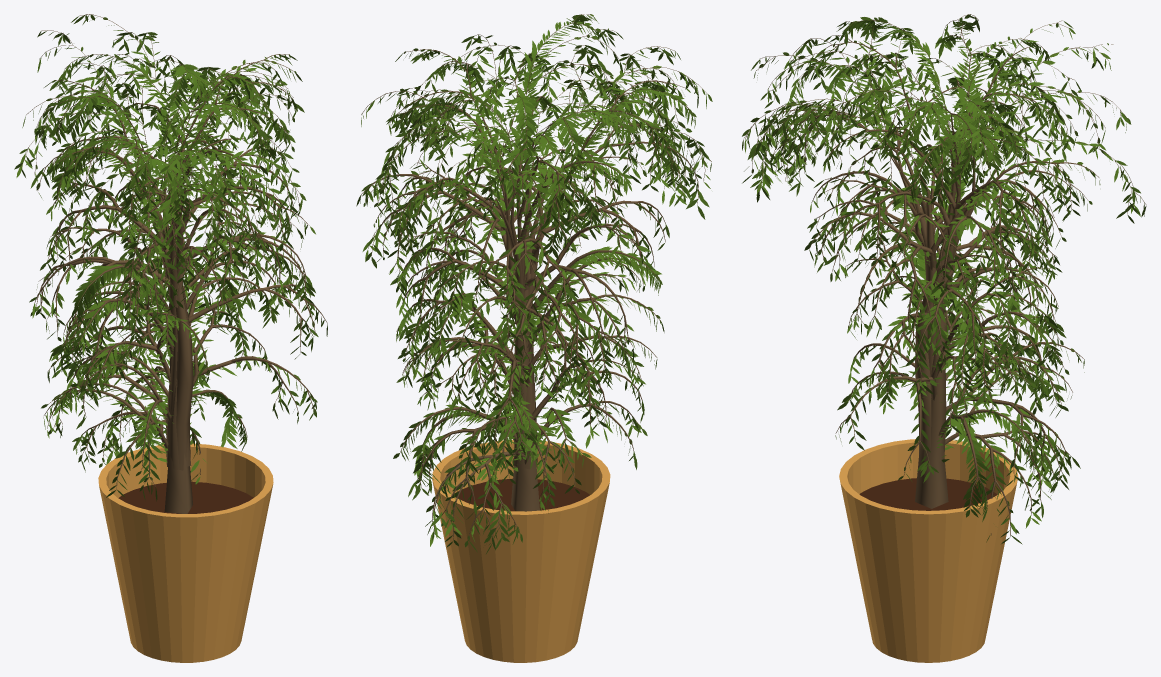
The model's file is plant.fbx.
3 views of the same model, side by side, from view 1: azimuth 30°, elevation 25°; view 2: azimuth 150°, elevation 25°; view 3: azimuth 270°, elevation 25° (orthographic). The views are drawn at different scales.
Parts seen in each view (by area): view 1: leaves, tree, Pot; view 2: leaves, tree, Pot; view 3: leaves, tree, Pot.
Part boxes in pixels (<box>): leaves: <box>14,14,327,501</box>; tree: <box>21,14,327,513</box>; Pot: <box>98,443,273,662</box>; leaves: <box>356,14,712,553</box>; tree: <box>360,14,711,539</box>; Pot: <box>432,439,610,662</box>; leaves: <box>742,14,1146,544</box>; tree: <box>744,14,1146,536</box>; Pot: <box>839,439,1018,662</box>.
Bounding box in the file's own units: 359 × 747 × 452.
